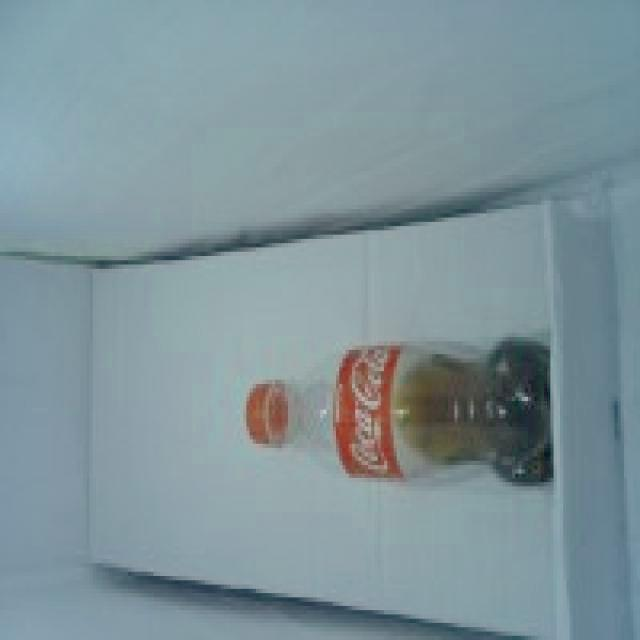bottle: (244, 335, 552, 487)
